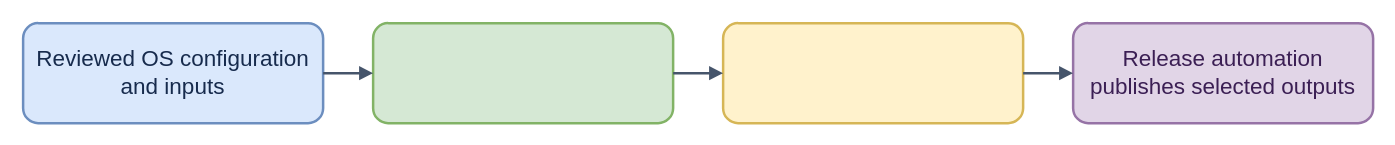
Some shapes in this 1395 by 145 pixel diagram are drawn without their labels. The shapes that lost their labels are listed below. From the top down, each one's centre as x and y in pixels, then its label:
pixel 522 72: COSA builds OS artifacts
pixel 872 72: Kola checks system behavior
